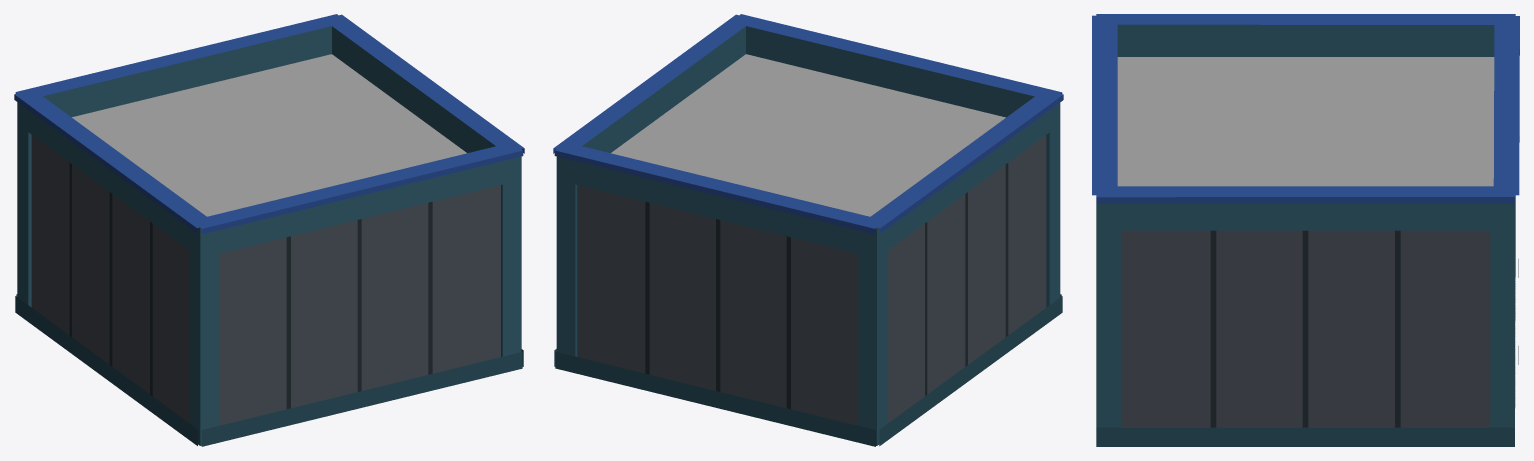
3 renders of one model, left to right at view 1: azimuth 30°, elevation 25°; view 2: azimuth 150°, elevation 25°; view 3: azimuth 270°, elevation 25°, orthographic. The views are drawn at different scales.
Parts seen in each view (by area): view 1: studentUnionWest__glass, studentUnionWest__roof, studentUnionWest__parapet, studentUnionWest__trim, studentUnionWest__wall, studentUnionWest__base, studentUnionWest__frame; view 2: studentUnionWest__glass, studentUnionWest__roof, studentUnionWest__parapet, studentUnionWest__trim, studentUnionWest__wall, studentUnionWest__base, studentUnionWest__frame; view 3: studentUnionWest__glass, studentUnionWest__roof, studentUnionWest__parapet, studentUnionWest__trim, studentUnionWest__wall, studentUnionWest__base, studentUnionWest__frame.
Boxes of the visible parts, x1=… form: studentUnionWest__glass: x1=31, y1=135, x2=500, y2=425; studentUnionWest__roof: x1=72, y1=54, x2=466, y2=216; studentUnionWest__parapet: x1=17, y1=26, x2=521, y2=255; studentUnionWest__trim: x1=14, y1=14, x2=524, y2=234; studentUnionWest__wall: x1=17, y1=121, x2=521, y2=445; studentUnionWest__base: x1=15, y1=294, x2=523, y2=446; studentUnionWest__frame: x1=69, y1=163, x2=432, y2=409; studentUnionWest__glass: x1=577, y1=135, x2=1046, y2=425; studentUnionWest__roof: x1=611, y1=54, x2=1005, y2=216; studentUnionWest__parapet: x1=556, y1=26, x2=1060, y2=255; studentUnionWest__trim: x1=553, y1=14, x2=1063, y2=234; studentUnionWest__wall: x1=556, y1=122, x2=1060, y2=445; studentUnionWest__base: x1=554, y1=294, x2=1062, y2=446; studentUnionWest__frame: x1=645, y1=163, x2=1008, y2=409; studentUnionWest__glass: x1=1121, y1=230, x2=1490, y2=427; studentUnionWest__roof: x1=1117, y1=57, x2=1515, y2=407; studentUnionWest__parapet: x1=1096, y1=24, x2=1514, y2=227; studentUnionWest__trim: x1=1092, y1=14, x2=1519, y2=203; studentUnionWest__wall: x1=1096, y1=195, x2=1515, y2=427; studentUnionWest__base: x1=1096, y1=259, x2=1518, y2=446; studentUnionWest__frame: x1=1210, y1=230, x2=1400, y2=427.
Size of the model in its own units: 6.12 by 3.9 by 6.04.
